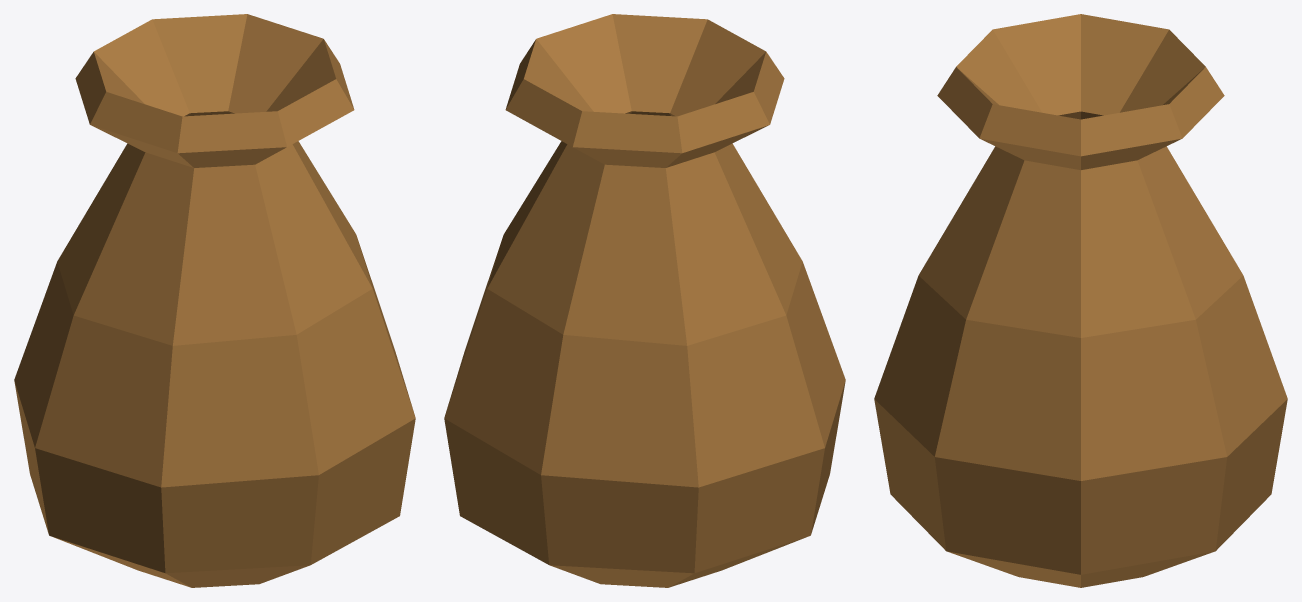
File: egypt-egypt-amphora-simple.glb
The picture shows the model from 3 angles, left to right: view 1: azimuth 30°, elevation 25°; view 2: azimuth 150°, elevation 25°; view 3: azimuth 270°, elevation 25°; orthographic projection.
Parts seen in each view (by area): view 1: egypt-amphora-simple; view 2: egypt-amphora-simple; view 3: egypt-amphora-simple.
Boxes of the visible parts, x1,y1,x2,y2 form: egypt-amphora-simple: (14, 14, 415, 587); egypt-amphora-simple: (444, 14, 845, 587); egypt-amphora-simple: (874, 14, 1287, 587).
Bounding box in the file's own units: 0.6968 × 0.8996 × 0.697.
